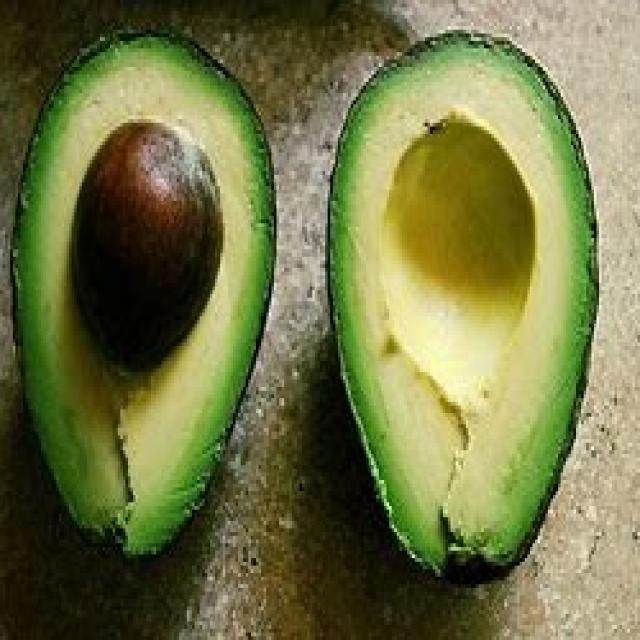avocado: (322, 24, 590, 576), (9, 22, 281, 559)
